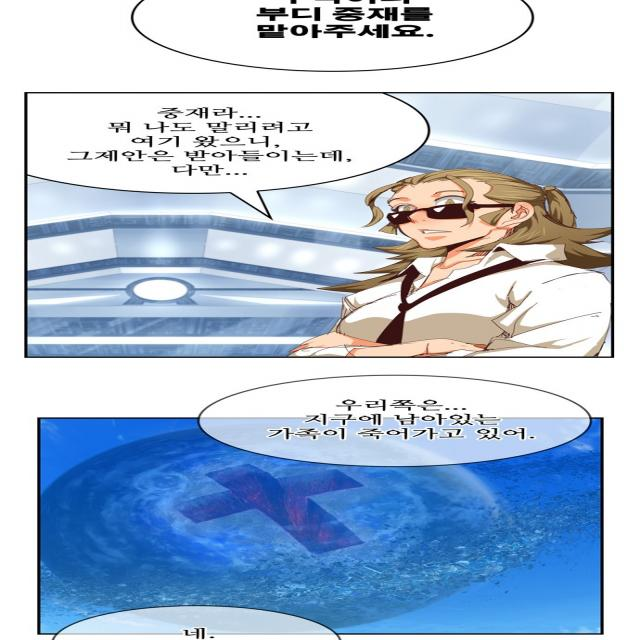Bubble: (21, 88, 430, 194), (196, 373, 594, 466), (126, 0, 538, 73), (47, 602, 346, 640)
